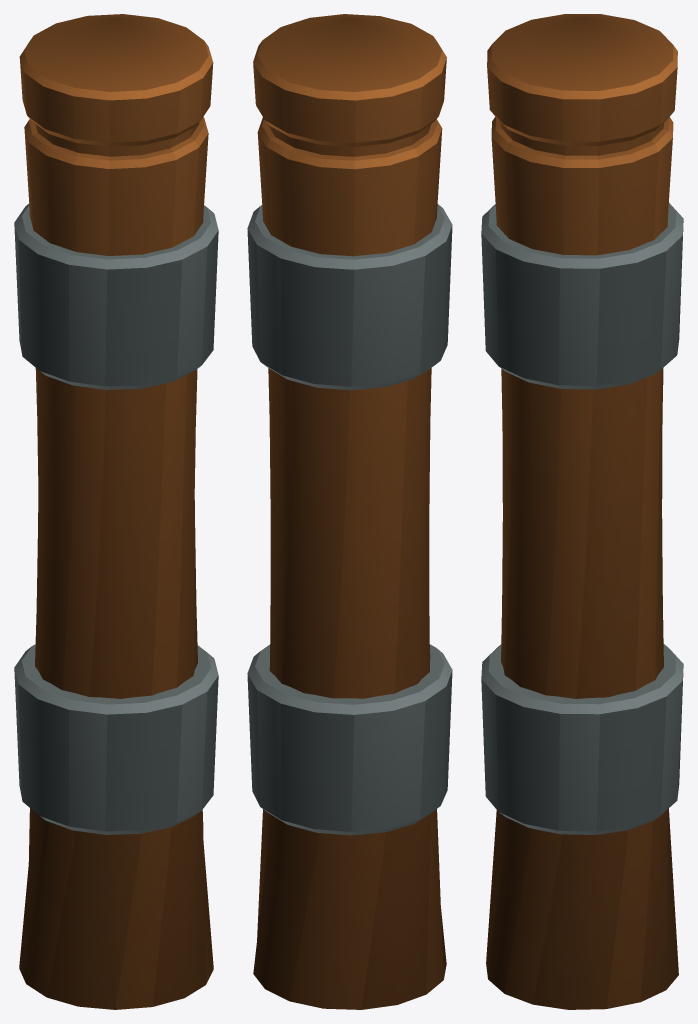
Rendered from Fence-4-3.fbx.
The picture shows the model from 3 angles, left to right: view 1: azimuth 30°, elevation 25°; view 2: azimuth 150°, elevation 25°; view 3: azimuth 270°, elevation 25°; orthographic projection.
Parts seen in each view (by area): view 1: Fence-4-3; view 2: Fence-4-3; view 3: Fence-4-3.
Boxes of the visible parts, bbox=[...] form: Fence-4-3: bbox=[14, 14, 218, 1009]; Fence-4-3: bbox=[247, 14, 452, 1009]; Fence-4-3: bbox=[481, 14, 683, 1009].
Size of the model in its own units: 30.38 by 158 by 30.38.
